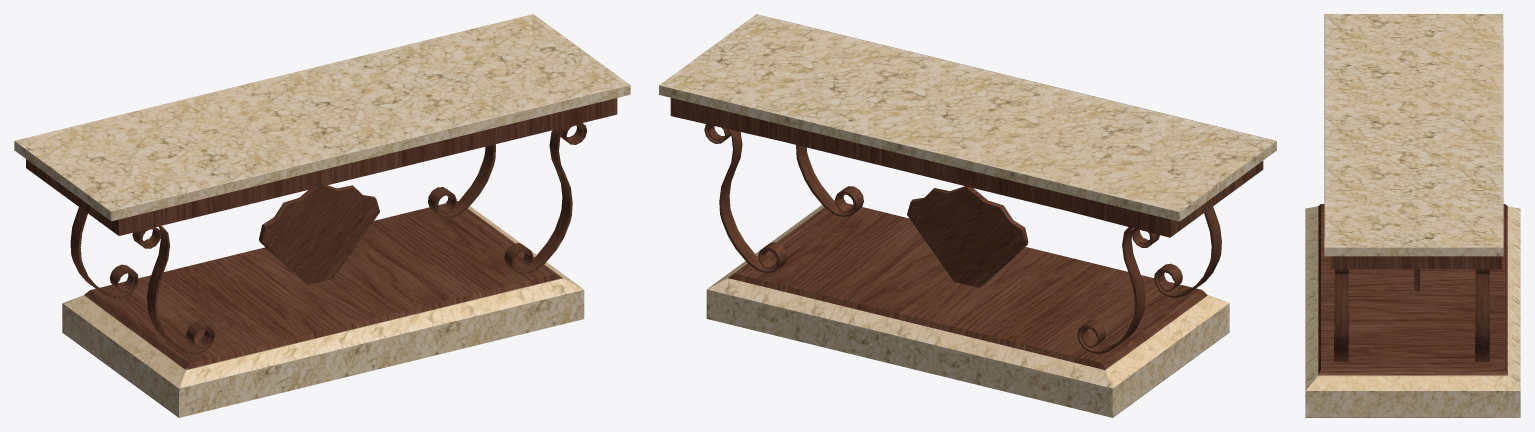
File: MD_Table05.fbx
3 views of the same model, side by side, from view 1: azimuth 30°, elevation 25°; view 2: azimuth 150°, elevation 25°; view 3: azimuth 270°, elevation 25° (orthographic). The views are drawn at different scales.
Visible parts, largest first — view 1: Circle; view 2: Circle; view 3: Circle.
Boxes of the visible parts, x1,y1,x2,y2 form: Circle: (14,14,630,417); Circle: (659,14,1276,417); Circle: (1305,14,1520,417).
Size of the model in its own units: 0.7809 by 0.3054 by 0.3038.
